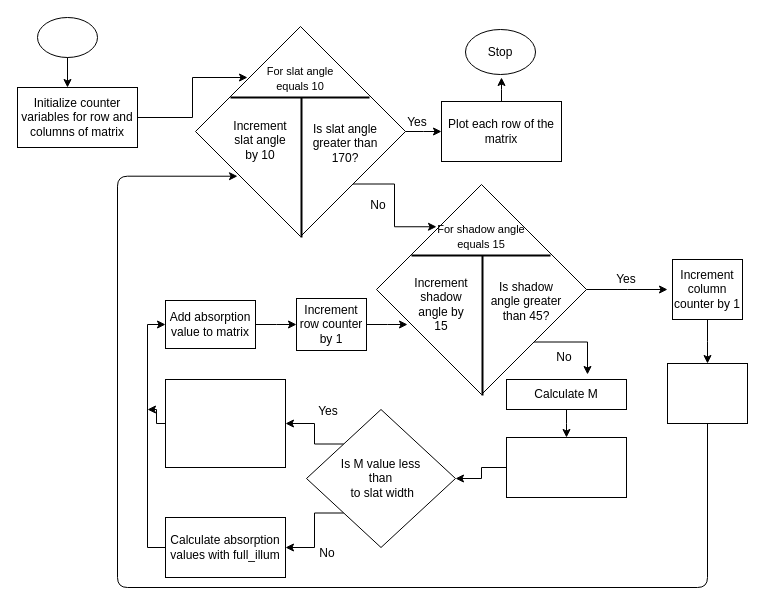
The diagram is 765 pixels wide and 613 high, and some of its shapes have lost their labels. The centre of each missing label's shape, as x and y in pixels:
"Calculate absorption values with part_illum" belongs at pixel 225 423.
"Reset row column to 1" belongs at pixel 707 393.
"Send blind parameters and M value to all_fracs" belongs at pixel 566 467.
"Start" belongs at pixel 67 37.
